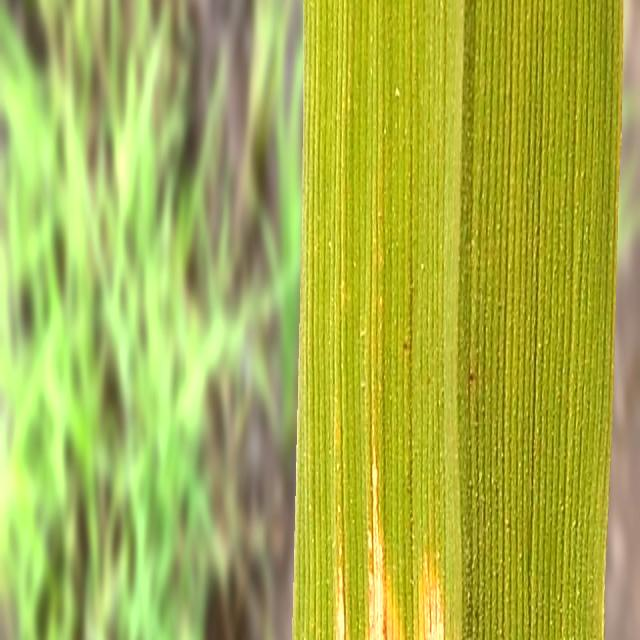BLS: (368, 450, 403, 640), (420, 562, 444, 640), (421, 568, 443, 640), (335, 530, 344, 640)
